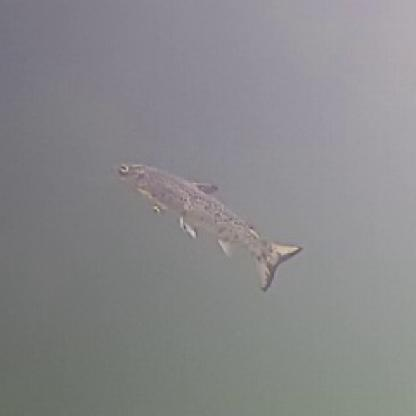salmon: (106, 154, 305, 291)
